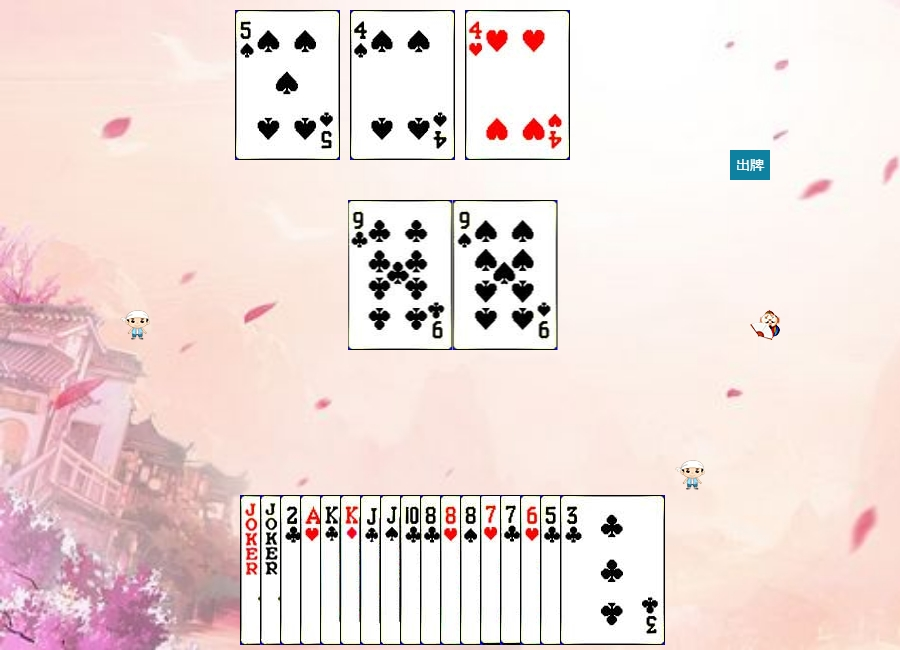10~2: (400, 495, 505, 645)
11~2: (360, 495, 465, 645)
11~4: (380, 495, 485, 645)
13~1: (340, 495, 445, 645)
13~2: (320, 495, 425, 645)
14~3: (300, 495, 405, 645)
15~2: (280, 495, 385, 645)
17~3: (260, 495, 365, 645)
18~4: (240, 495, 345, 645)
3~2: (560, 495, 665, 645)
4~3: (465, 10, 570, 160)
4~4: (350, 10, 455, 160)
5~2: (540, 495, 645, 645)
5~4: (235, 10, 340, 160)
6~3: (520, 495, 625, 645)
7~2: (500, 495, 605, 645)
7~3: (480, 495, 585, 645)
8~2: (420, 495, 525, 645)
8~3: (440, 495, 545, 645)
8~4: (460, 495, 565, 645)
9~2: (348, 200, 453, 350)
9~4: (453, 200, 558, 350)
